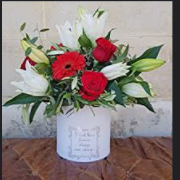RedRose: (79, 70, 108, 102), (91, 36, 117, 65)
